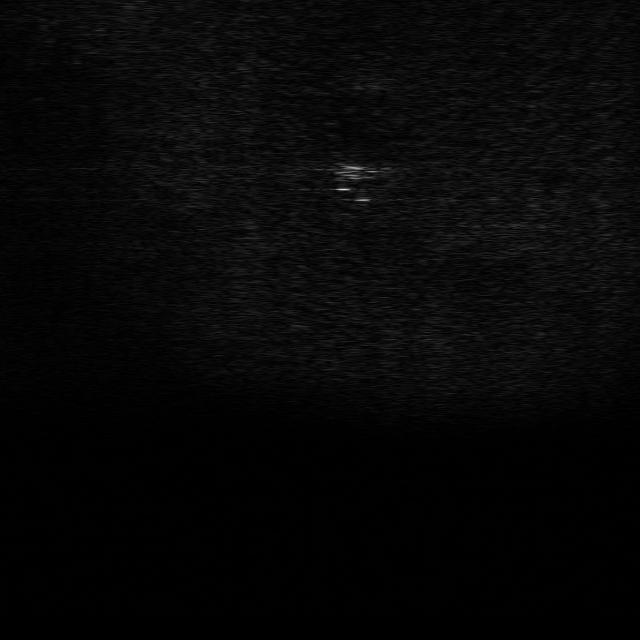plane: (324, 156, 394, 182)
